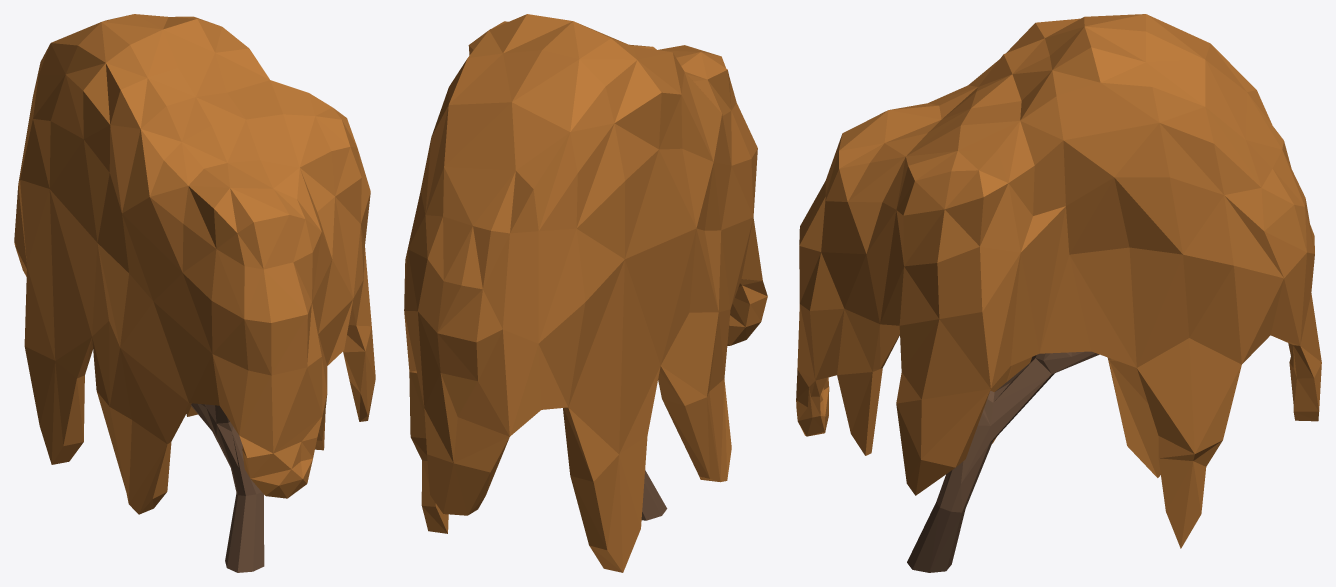
File: Willow_Autumn_1.glb
3 renders of one model, left to right at view 1: azimuth 30°, elevation 25°; view 2: azimuth 150°, elevation 25°; view 3: azimuth 270°, elevation 25°, orthographic. The views are drawn at different scales.
Parts seen in each view (by area): view 1: Willow_Autumn_1; view 2: Willow_Autumn_1; view 3: Willow_Autumn_1.
Boxes of the visible parts, x1,y1,x2,y2 form: Willow_Autumn_1: (14, 14, 375, 572); Willow_Autumn_1: (404, 14, 767, 572); Willow_Autumn_1: (796, 14, 1321, 572).
Bounding box in the file's own units: 1.45 × 2.85 × 2.55.
